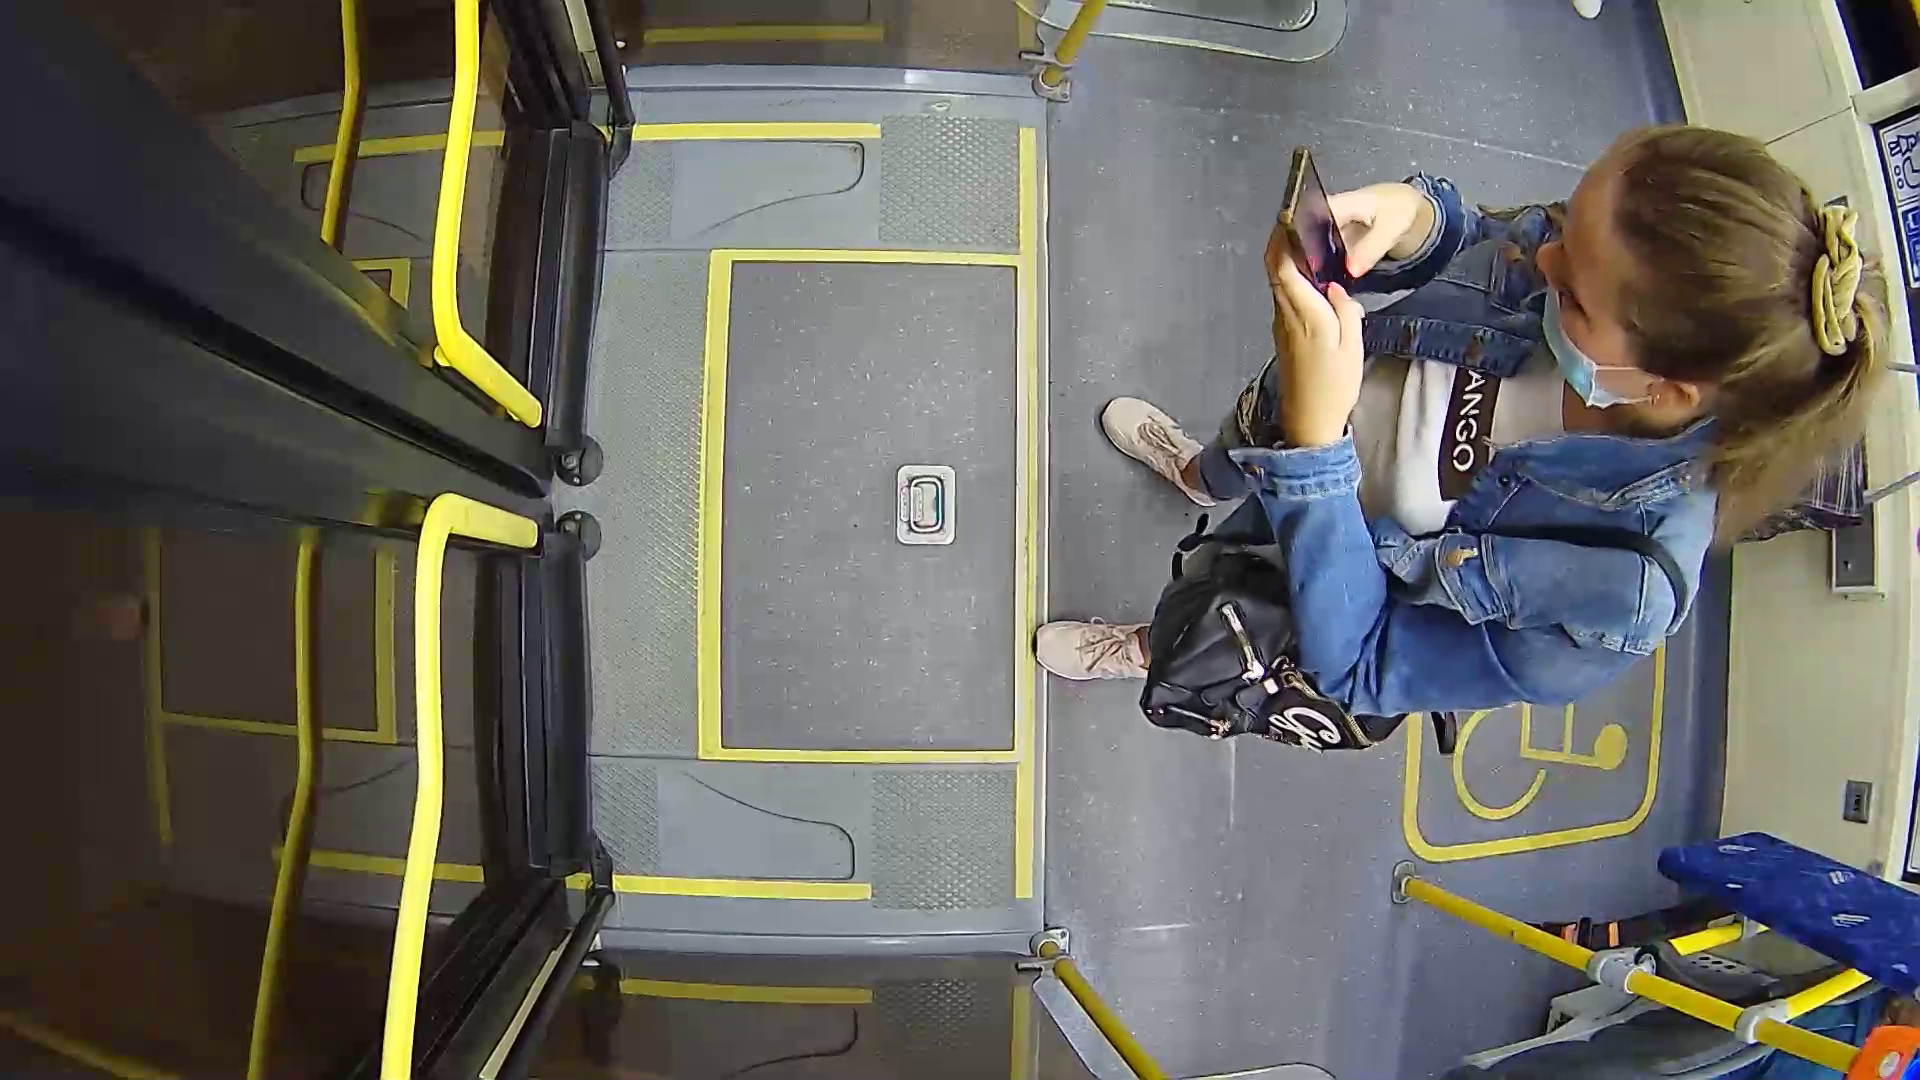person: (1043, 97, 1869, 782)
